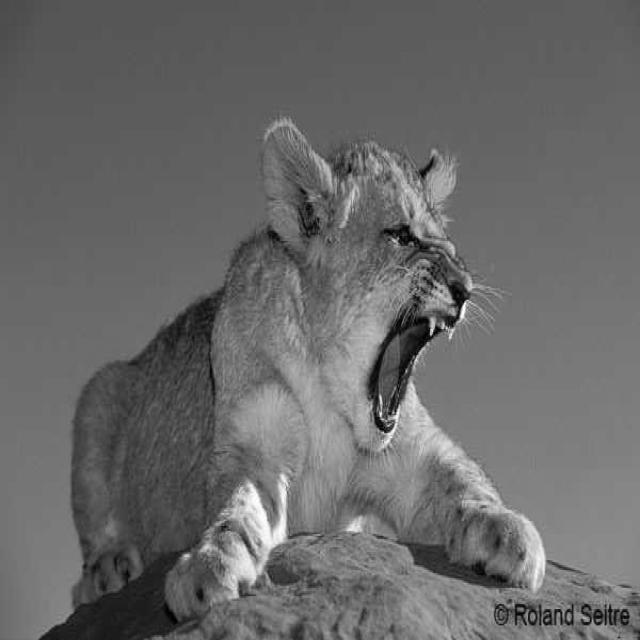Lion: (43, 82, 540, 633)
